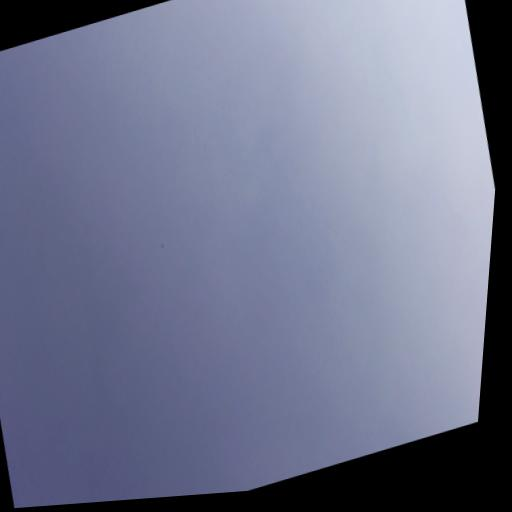drones: (159, 241, 166, 250)
